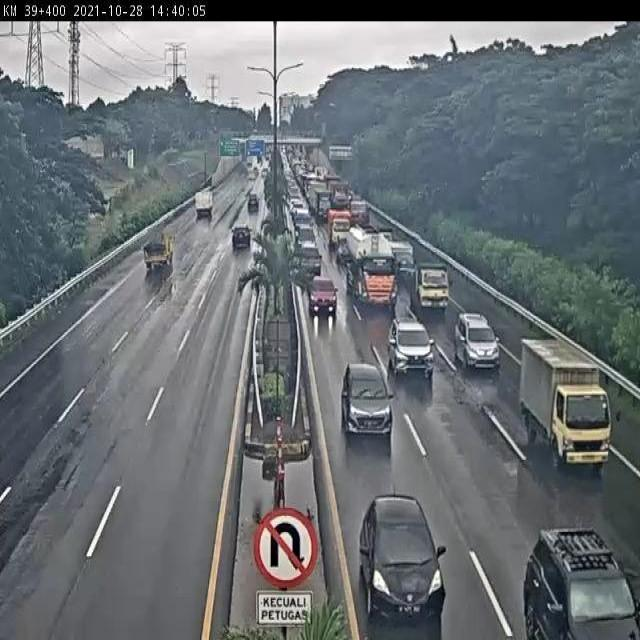car: (357, 493, 444, 619), (341, 364, 393, 437), (453, 313, 500, 367), (390, 320, 436, 375), (308, 276, 337, 312), (227, 225, 253, 251), (298, 244, 321, 273)
mid truck: (246, 194, 263, 214)
small truck: (143, 236, 177, 276)
truck-m-: (410, 259, 451, 309)
truck-s-: (517, 334, 611, 466), (390, 239, 415, 273)
truck-xl-: (345, 224, 397, 307)
